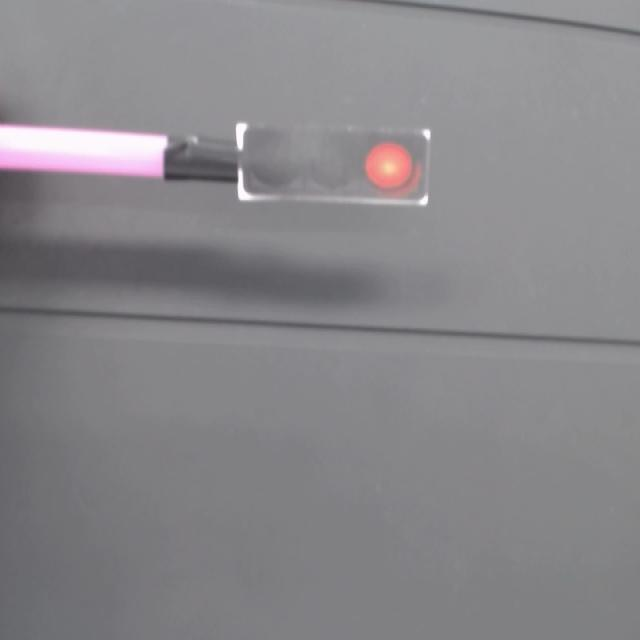traffic light: (238, 123, 435, 212)
